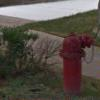Hydrant: (52, 18, 94, 99)
